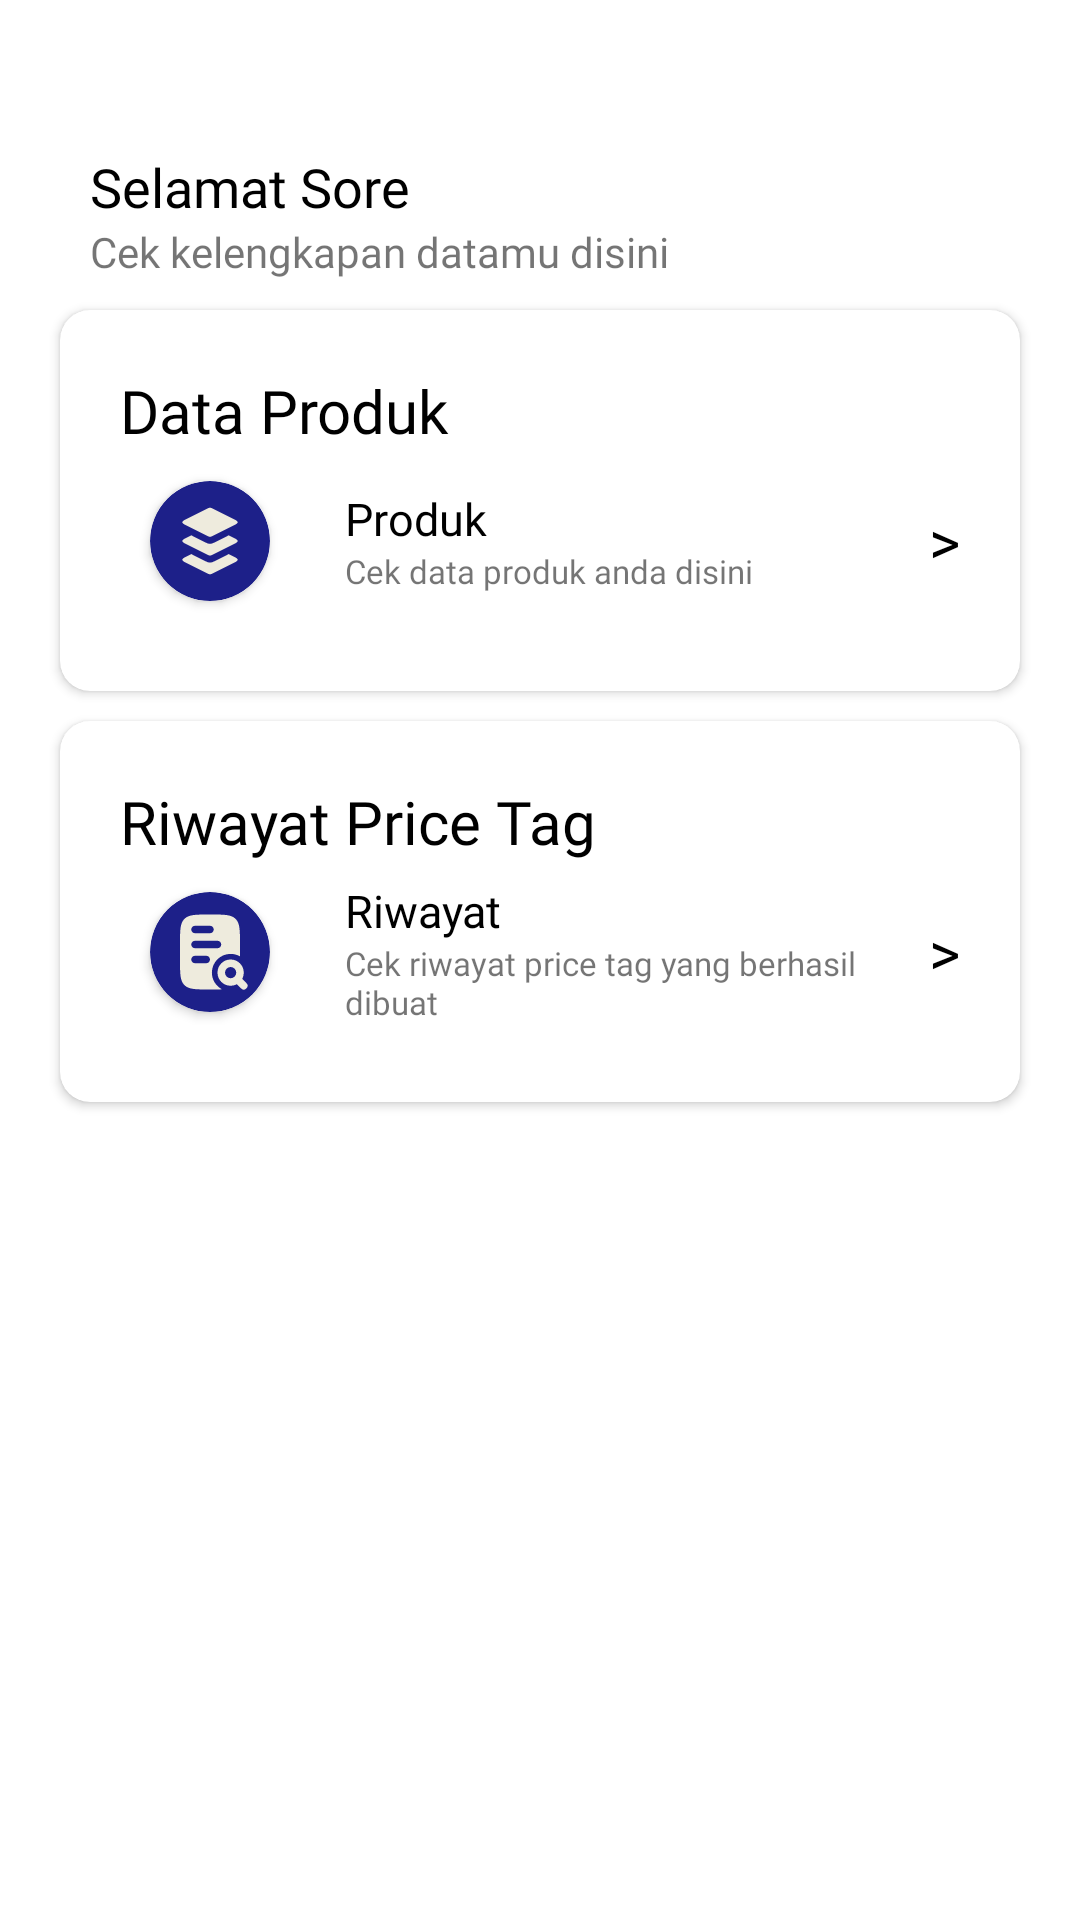

Icon click points for this 1080w x 1920h phone screenshot, format [x,y]:
file dock search: [214,952]
layers: [210,541]
